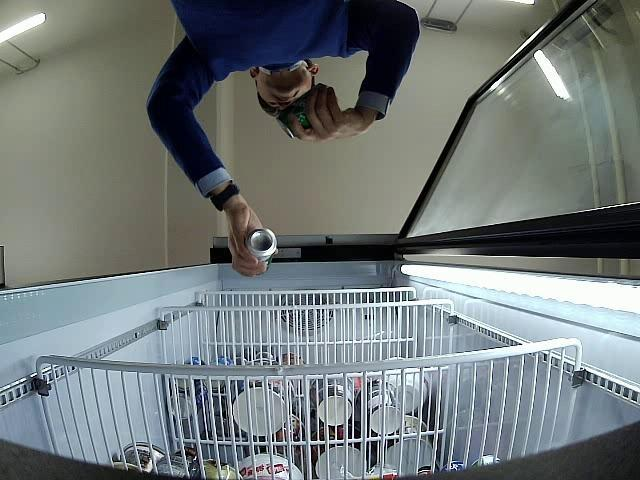12_chilsungCider: (277, 84, 322, 139), (246, 228, 277, 274)
